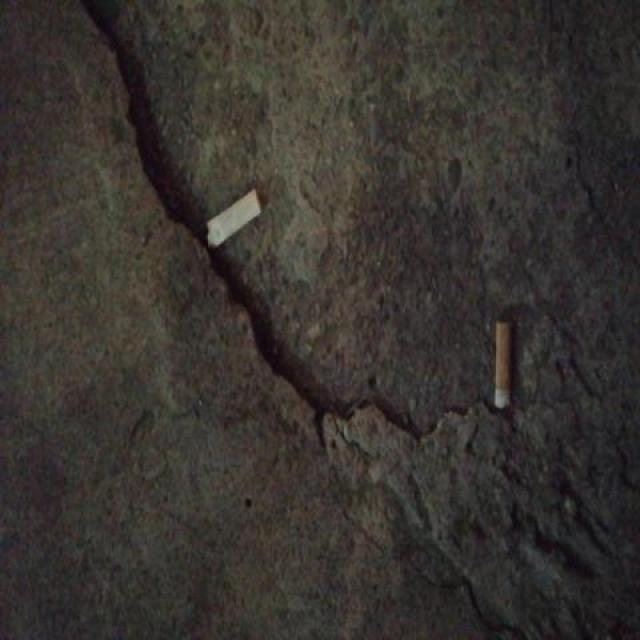non-organic waste: (203, 183, 264, 253), (494, 314, 514, 414)
